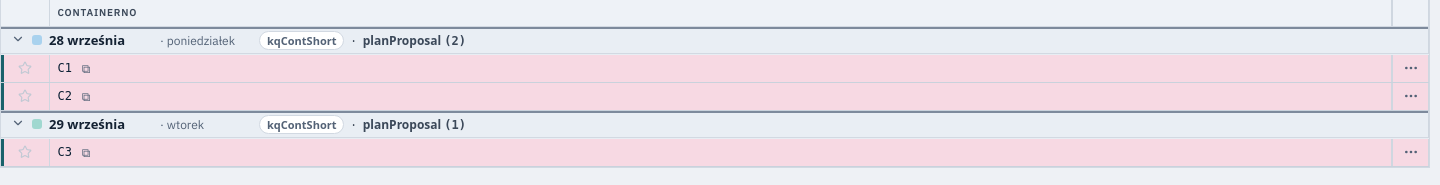
Test: kolejka — zwijanie dnia po „zwiń wszystkie" propozycje › sekcja w ręcznie otwartym dniu zwija tylko ten dzień
This screenshot has width=1440, height=185.
Click the button "planProposal (2)": (414, 40) x1=363 y1=32 x2=466 y2=48
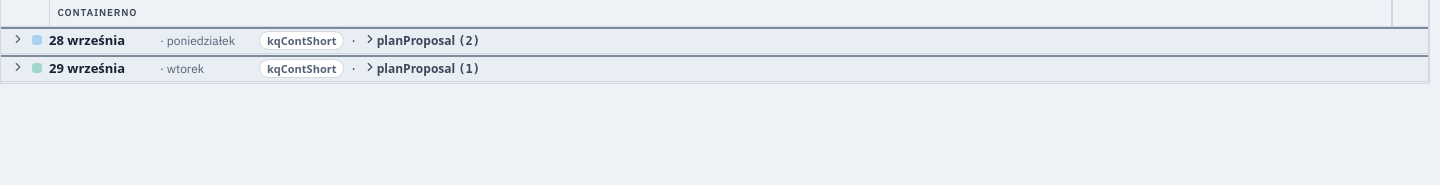
Click the button with class "kq-caret" next to "29 września": (18, 68) x1=11 y1=60 x2=25 y2=76
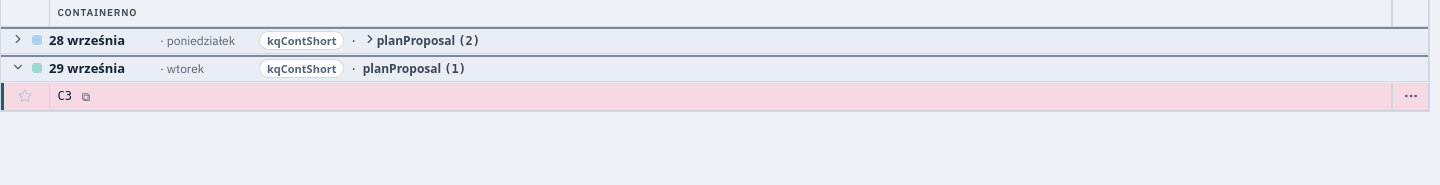
Click the button "planProposal (1)": (414, 68) x1=363 y1=60 x2=466 y2=76
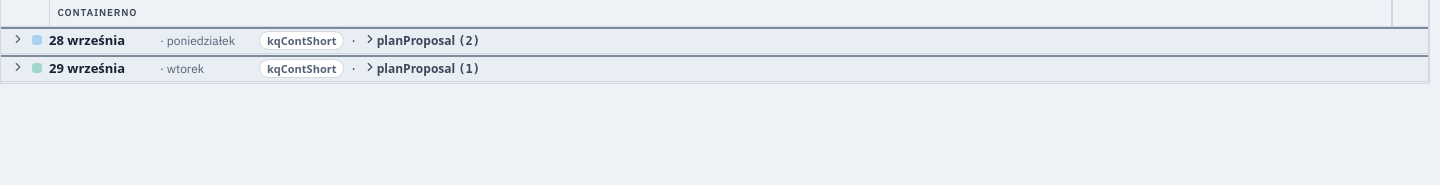
Expected: the button with class "kq-caret" next to "29 września" is collapsed, x1=11 y1=60 x2=25 y2=76
